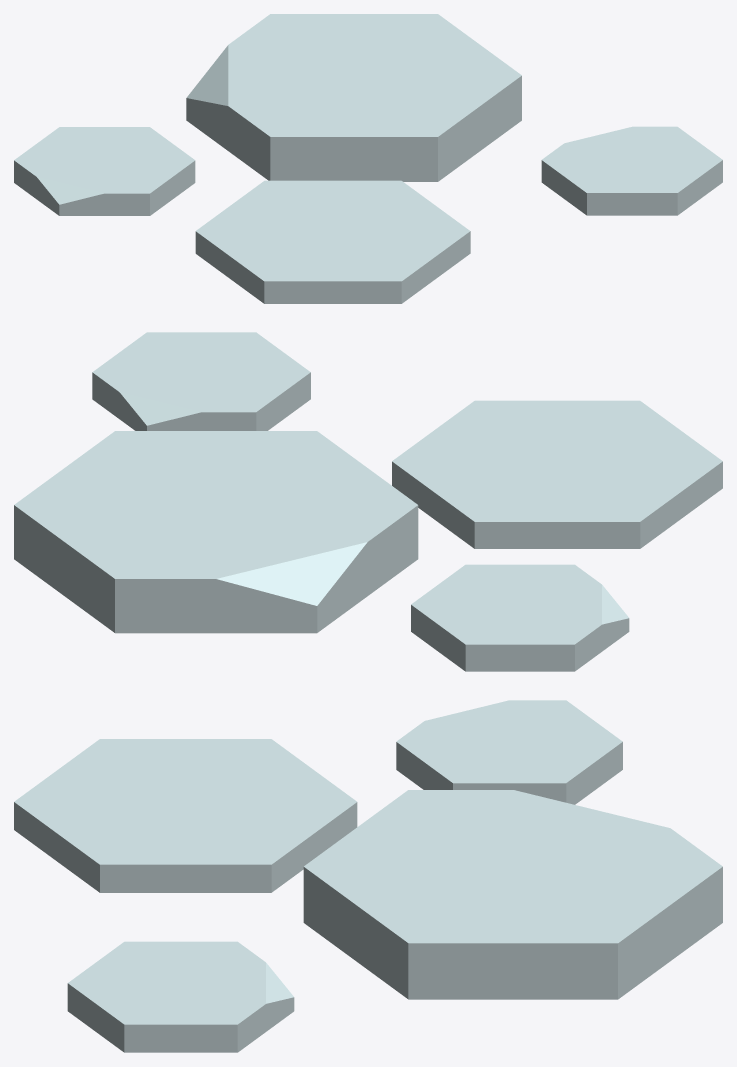
File: path_stoneEnd.glb
3 views of the same model, one above another, from view 1: azimuth 30°, elevation 25°; view 2: azimuth 150°, elevation 25°; view 3: azimuth 270°, elevation 25° (orthographic). The views are drawn at different scales.
Visible parts, largest first — view 1: path_stoneEnd; view 2: path_stoneEnd; view 3: path_stoneEnd.
Part boxes in pixels (left/top/right/bottom): path_stoneEnd: left=14, top=14, right=722, bottom=303; path_stoneEnd: left=14, top=332, right=722, bottom=671; path_stoneEnd: left=14, top=700, right=722, bottom=1052.
Size of the model in its own units: 0.6182 by 0.05 by 0.571.
Materials: 1 (1 with a texture image).
